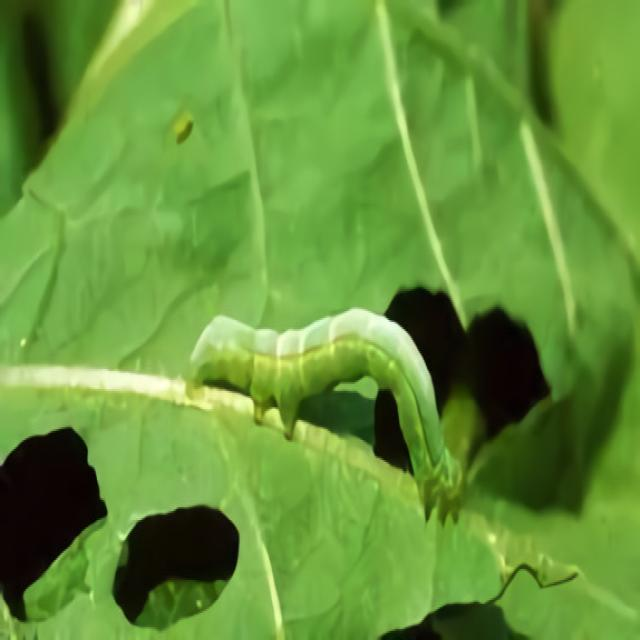worm: (192, 297, 470, 539)
